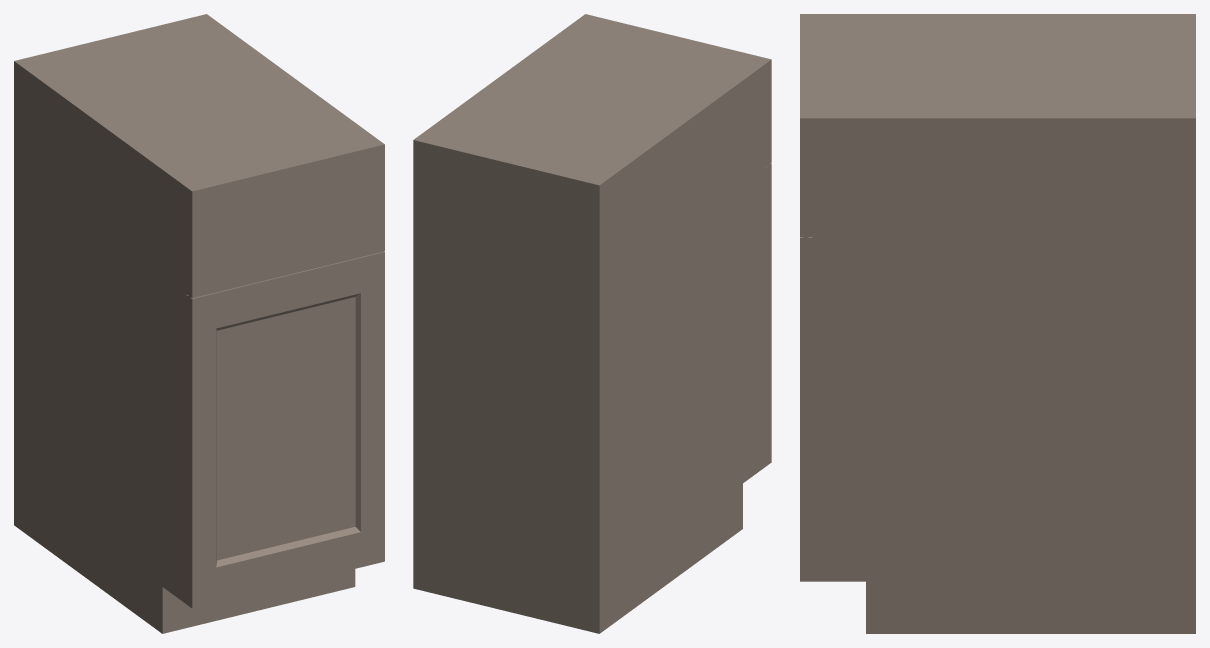
Rendered from Base-Cabinet-Single-Door_W15in_1D.glb.
3 renders of one model, left to right at view 1: azimuth 30°, elevation 25°; view 2: azimuth 150°, elevation 25°; view 3: azimuth 270°, elevation 25°, orthographic. The views are drawn at different scales.
Visible parts, largest first — view 1: Base-Cabinet-Single-Door_W15in_1D; view 2: Base-Cabinet-Single-Door_W15in_1D; view 3: Base-Cabinet-Single-Door_W15in_1D.
Boxes of the visible parts, x1,y1,x2,y2 form: Base-Cabinet-Single-Door_W15in_1D: (14,14,384,633); Base-Cabinet-Single-Door_W15in_1D: (413,14,771,633); Base-Cabinet-Single-Door_W15in_1D: (800,14,1195,633).
Size of the model in its own units: 0.381 by 0.8769 by 0.61.
